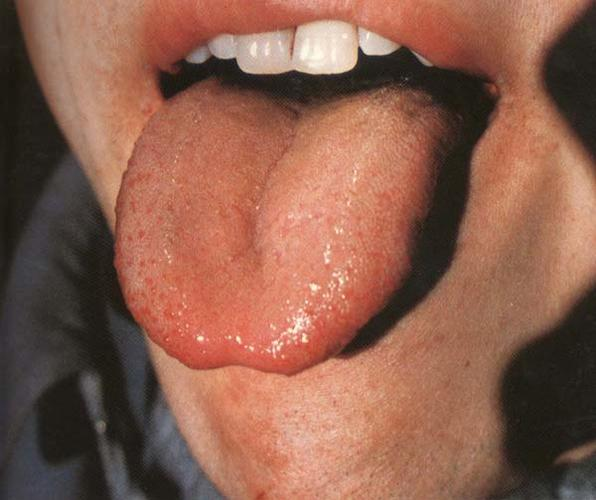baitaishe: (113, 75, 468, 375)
hongdianshe: (122, 198, 184, 341)
hongshe: (113, 75, 468, 375)
xinfeiao: (191, 332, 292, 375)
